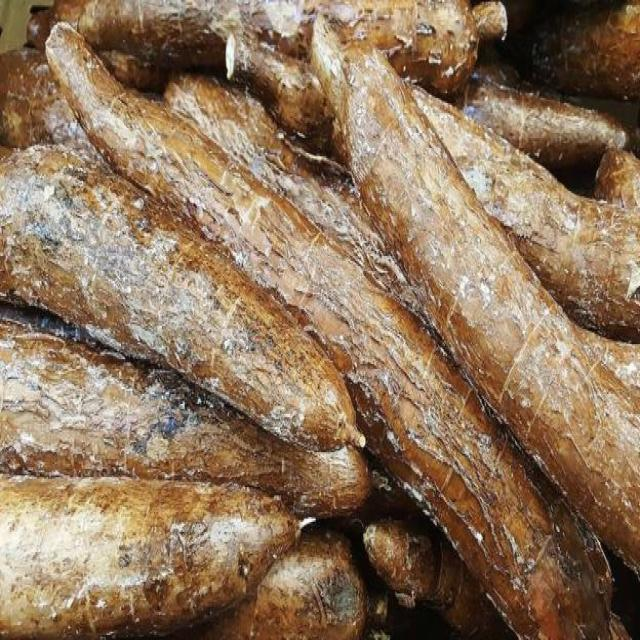yuca: (46, 12, 370, 332)
